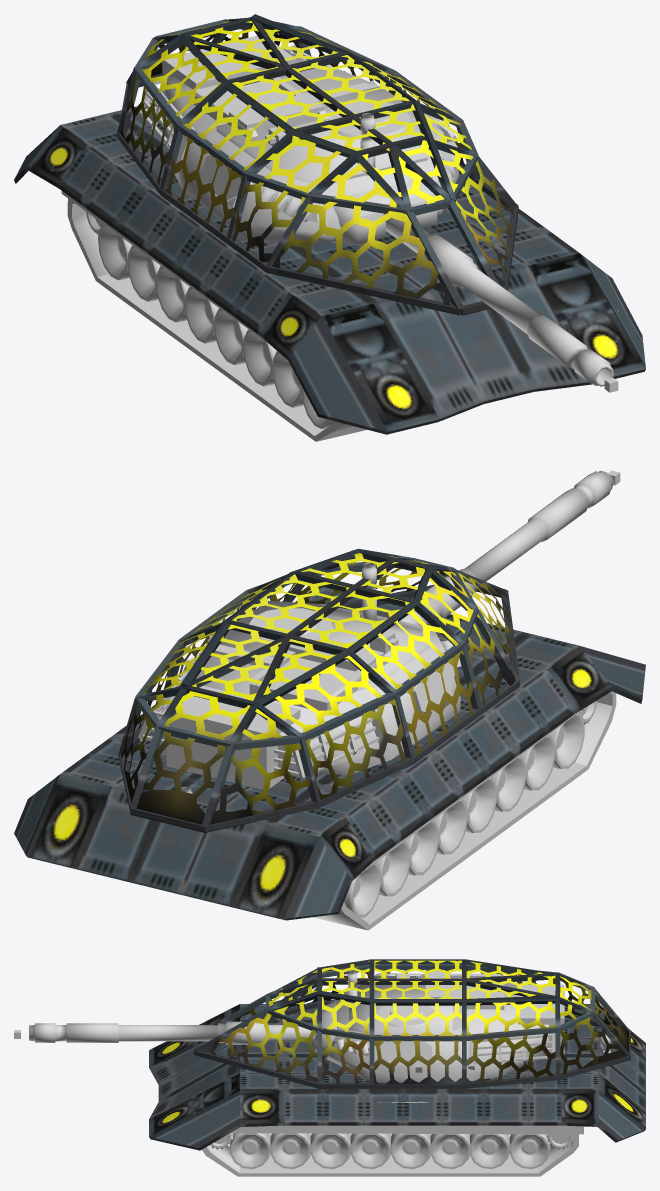
Rendered from ground_tank_night.DAE.
3 renders of one model, top to bottom at view 1: azimuth 30°, elevation 25°; view 2: azimuth 150°, elevation 25°; view 3: azimuth 270°, elevation 25°, orthographic. The views are drawn at different scales.
Parts seen in each view (by area): view 1: Antagon1, Antagon2, Turret1, TrackR1, Cannon1, IdlerR_05, IdlerR_03, IdlerR_04, IdlerR_08, IdlerR_06, IdlerR_07, IdlerR_02 (+1 smaller); view 2: Antagon1, Antagon2, Turret1, TrackR1, Cannon1, IdlerR_08, IdlerR_01, IdlerR_04, IdlerR_02, IdlerR_03, IdlerR_05, IdlerR_07 (+1 smaller); view 3: Antagon1, Antagon2, Turret1, Track_L1, Cannon1, Body1, IdlerL_02, IdlerL_03, IdlerL_04, IdlerL_01, IdlerL_05, IdlerL_06 (+3 smaller).
Boxes of the visible parts, x1=… form: Antagon1: x1=14, y1=103, x2=645, y2=434; Antagon2: x1=117, y1=14, x2=518, y2=315; Turret1: x1=139, y1=35, x2=459, y2=244; TrackR1: x1=67, y1=198, x2=366, y2=441; Cannon1: x1=383, y1=213, x2=614, y2=386; IdlerR_05: x1=184, y1=287, x2=219, y2=343; IdlerR_03: x1=243, y1=329, x2=276, y2=386; IdlerR_04: x1=214, y1=308, x2=248, y2=364; IdlerR_08: x1=98, y1=224, x2=132, y2=280; IdlerR_06: x1=155, y1=266, x2=189, y2=322; IdlerR_07: x1=127, y1=245, x2=160, y2=301; IdlerR_02: x1=272, y1=351, x2=303, y2=407; Antagon1: x1=14, y1=586, x2=645, y2=920; Antagon2: x1=118, y1=548, x2=520, y2=832; Turret1: x1=138, y1=600, x2=461, y2=789; TrackR1: x1=313, y1=691, x2=616, y2=930; Cannon1: x1=400, y1=470, x2=613, y2=626; IdlerR_08: x1=344, y1=862, x2=381, y2=917; IdlerR_01: x1=549, y1=713, x2=584, y2=768; IdlerR_04: x1=462, y1=777, x2=497, y2=832; IdlerR_02: x1=521, y1=734, x2=555, y2=790; IdlerR_03: x1=492, y1=756, x2=526, y2=811; IdlerR_05: x1=434, y1=799, x2=467, y2=854; IdlerR_07: x1=377, y1=840, x2=410, y2=896; Antagon1: x1=149, y1=1004, x2=645, y2=1150; Antagon2: x1=193, y1=959, x2=630, y2=1088; Turret1: x1=315, y1=971, x2=564, y2=1082; Track_L1: x1=202, y1=1134, x2=578, y2=1176; Cannon1: x1=29, y1=1021, x2=314, y2=1044; Body1: x1=202, y1=1101, x2=583, y2=1137; IdlerL_02: x1=270, y1=1133, x2=310, y2=1169; IdlerL_03: x1=310, y1=1133, x2=350, y2=1169; IdlerL_04: x1=350, y1=1133, x2=390, y2=1169; IdlerL_01: x1=229, y1=1133, x2=270, y2=1169; IdlerL_05: x1=390, y1=1133, x2=430, y2=1169; IdlerL_06: x1=430, y1=1134, x2=470, y2=1169.
Size of the model in its own units: 2895 by 1994 by 7132.
